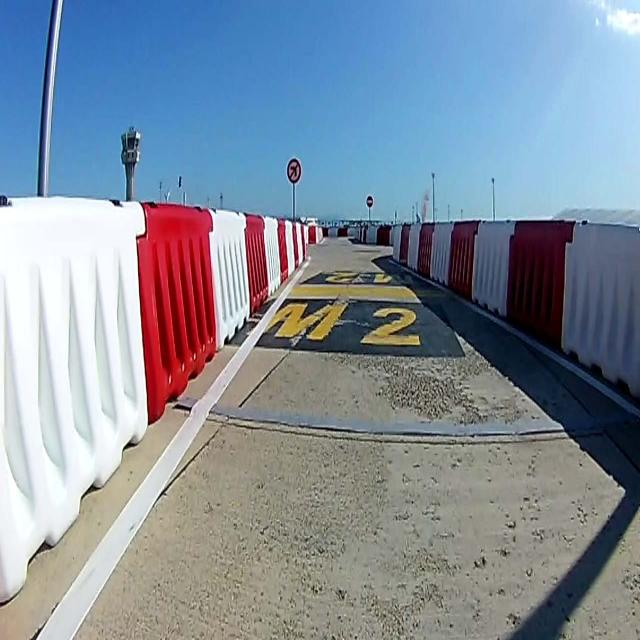girisyok: (366, 195, 372, 209)
soladonulmez: (287, 158, 301, 184)
